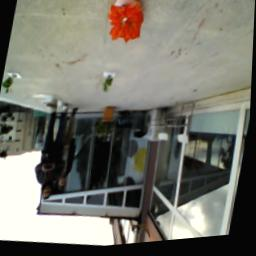herb: (1, 75, 18, 97), (103, 76, 115, 96)
wild: (105, 2, 150, 50)
